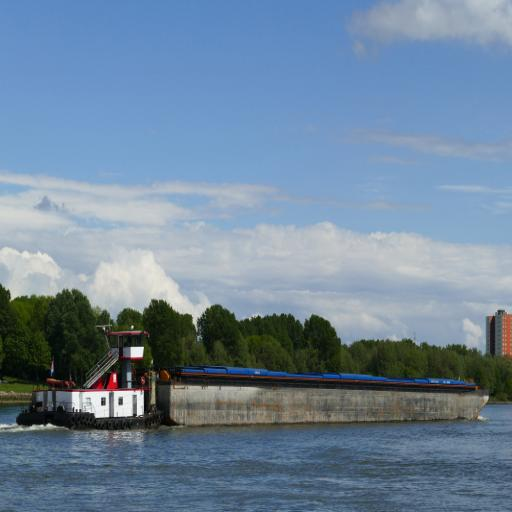tugboat: (16, 323, 171, 437)
